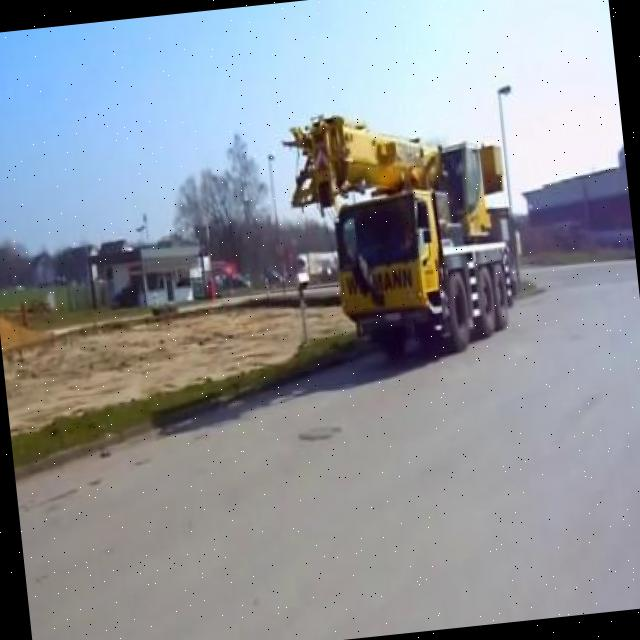Mobile Crane: (281, 97, 524, 364)
